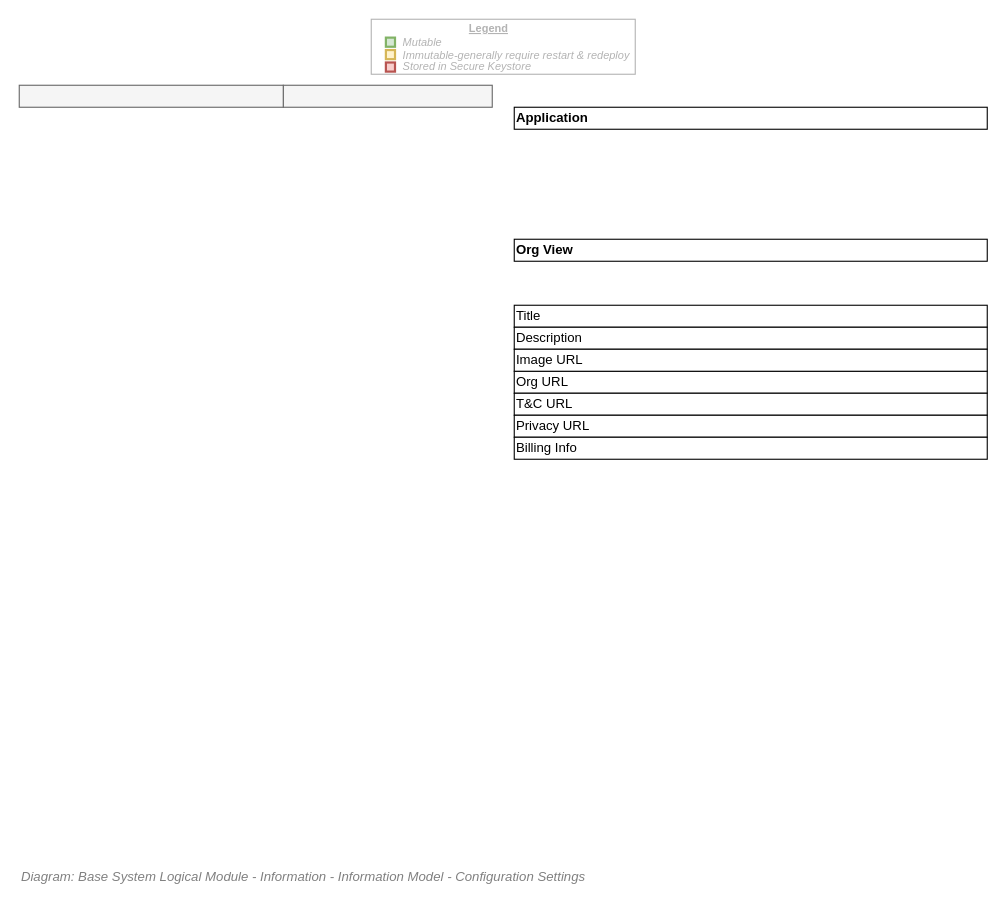
The diagram is 1007 pixels wide and 908 high, and some of its shapes have lost their labels. The shapes that lost their labels are listed below. From the top down, each one's centre as x and y in pixels, then its label:
point 150,95: Key Path
point 387,95: Defaults
